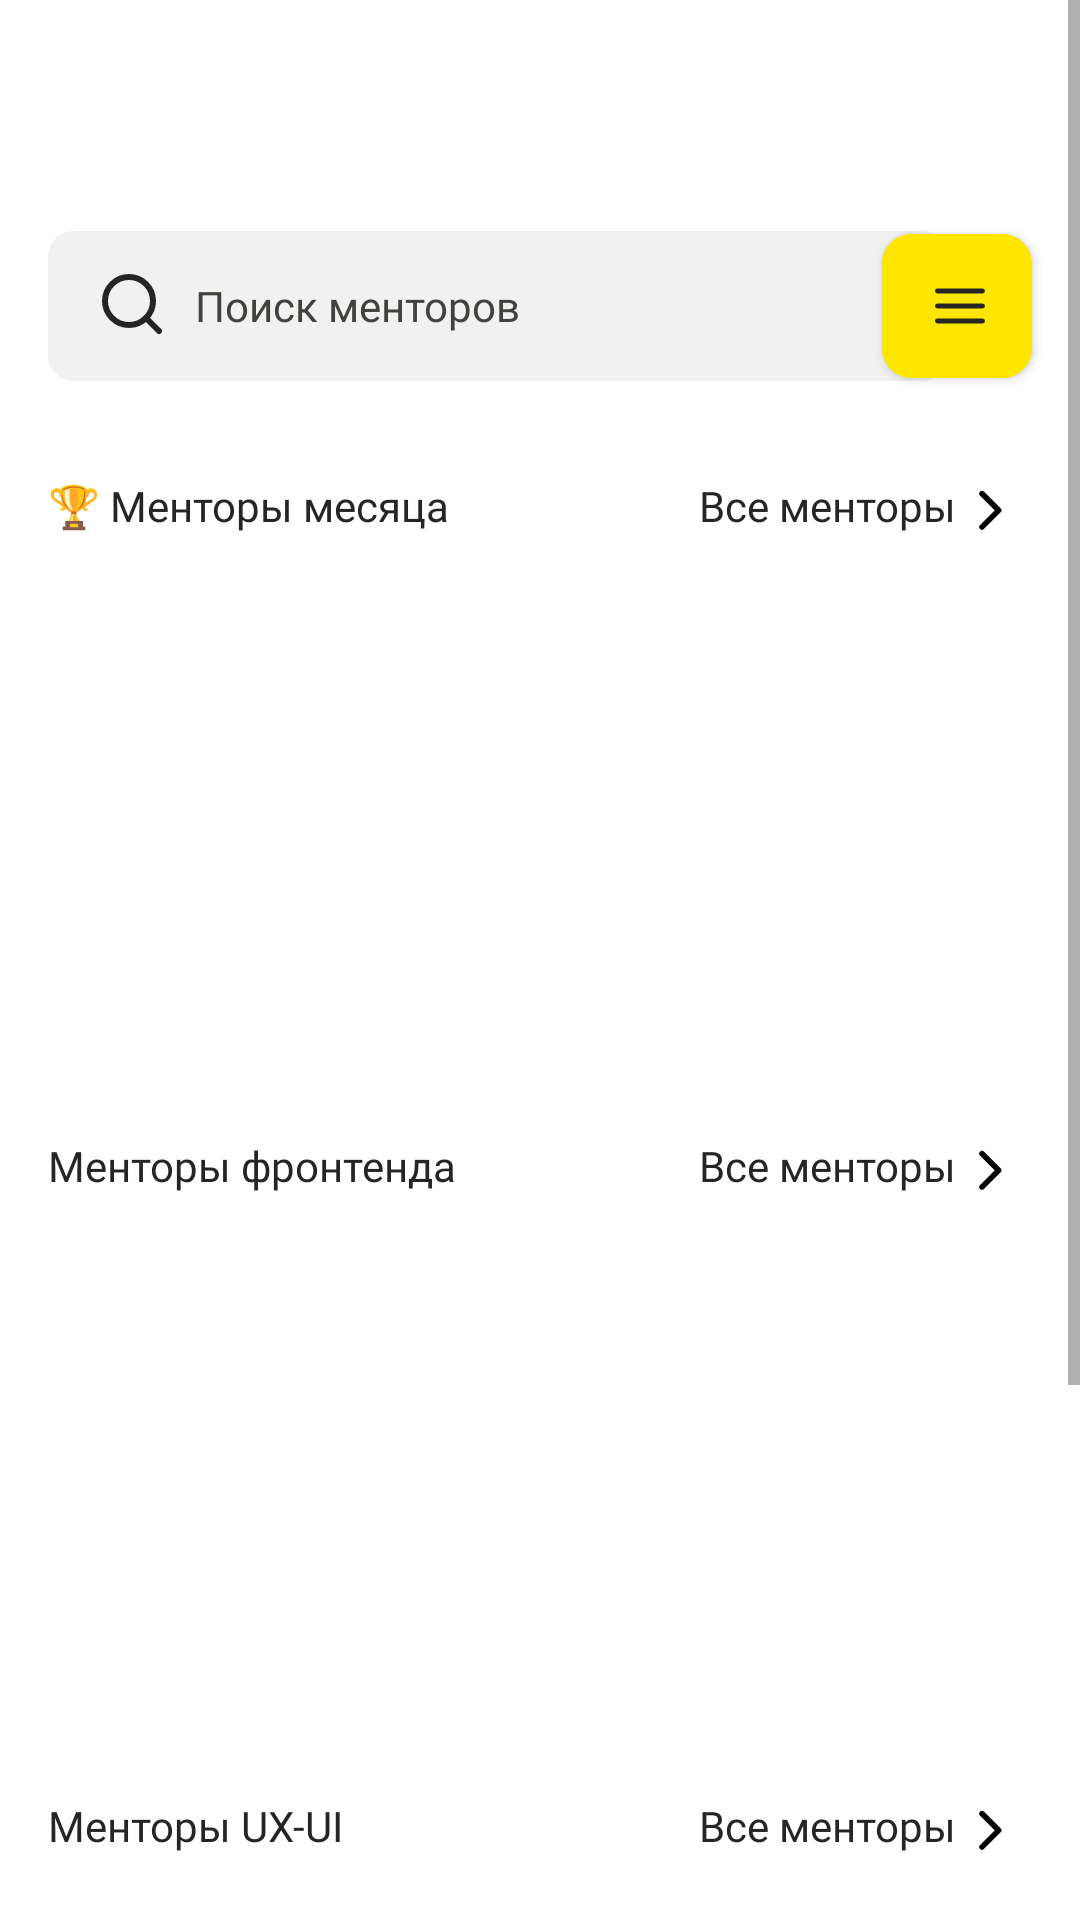

Screen size 1080w x 1920h. Icon name, then its box in pixels as [x1, y1, x2, y2]:
drawer: [882, 232, 1032, 381]
